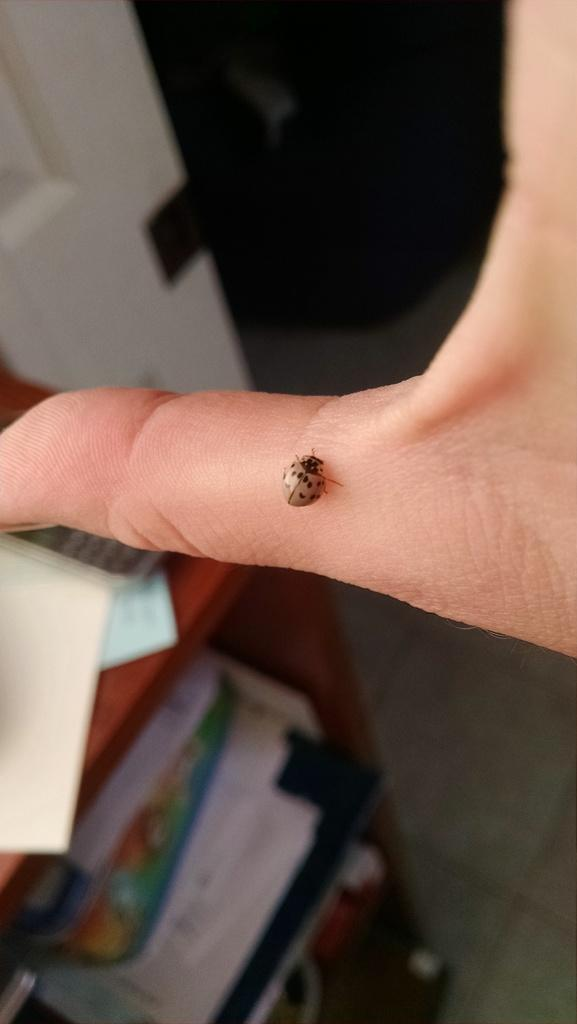ladybug: (281, 448, 346, 508)
